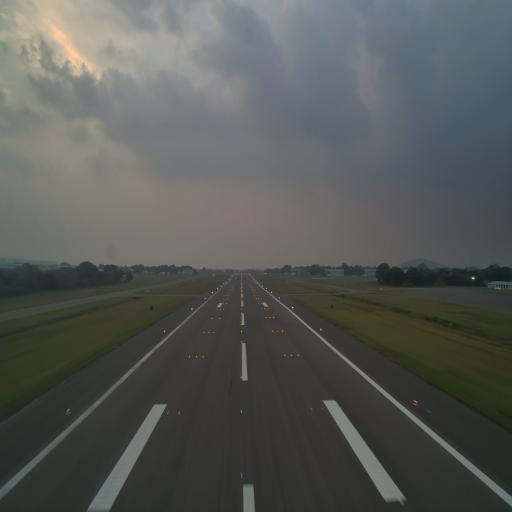off: (240, 354, 242, 358)
on: (238, 470, 244, 481), (412, 397, 418, 408), (64, 407, 71, 416), (309, 406, 314, 414), (238, 408, 243, 416), (155, 410, 159, 418), (296, 352, 300, 359), (177, 410, 181, 416), (290, 352, 294, 358), (321, 405, 324, 412), (188, 354, 191, 359), (283, 353, 286, 358), (167, 410, 169, 416), (240, 374, 242, 380), (195, 354, 197, 360), (202, 354, 204, 359)
